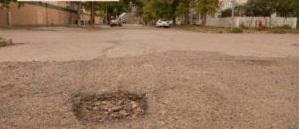pothole: (66, 84, 151, 127)
